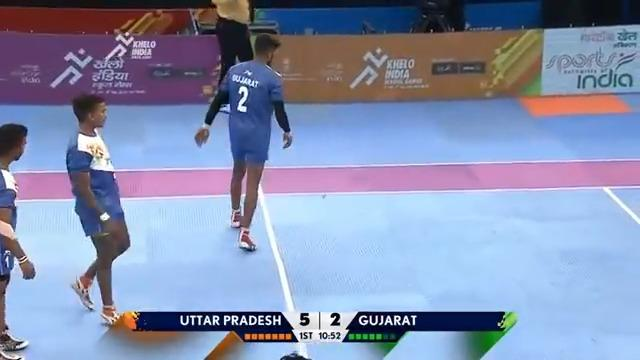Player: (65, 91, 131, 326), (0, 122, 36, 358)
Raider: (193, 32, 293, 251)
